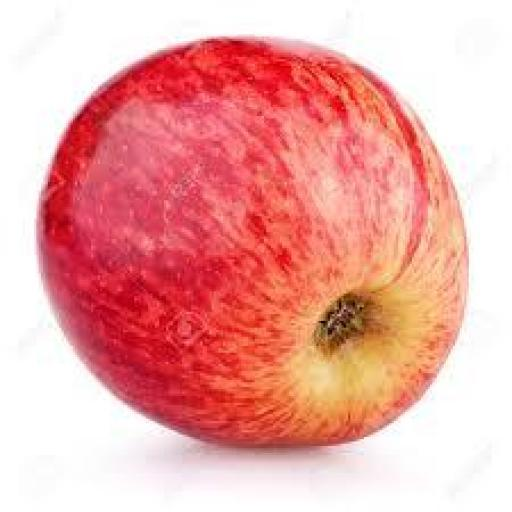apple: (39, 39, 466, 446)
